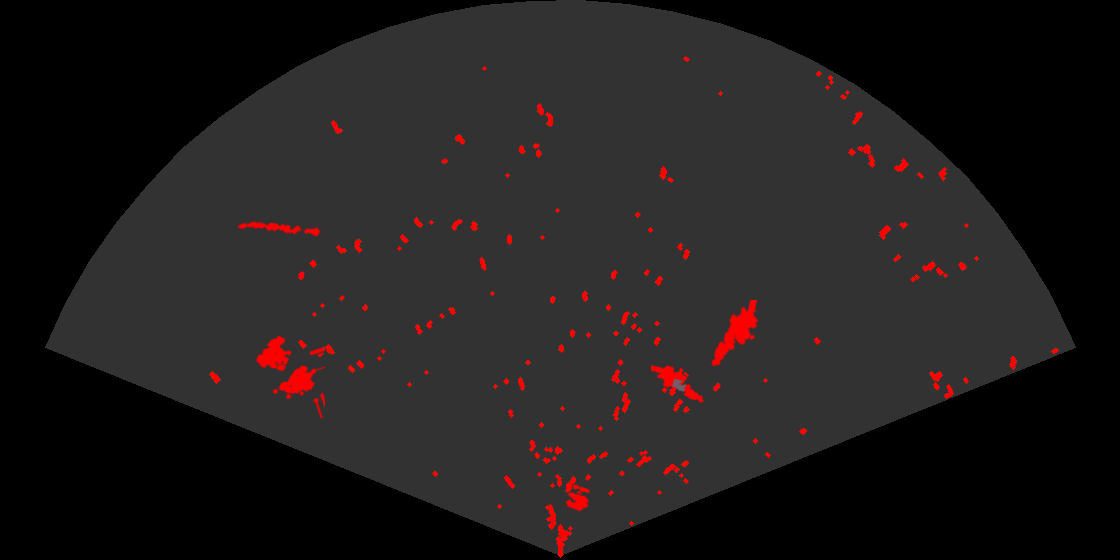ball: (564, 483, 592, 513)
cage: (255, 334, 325, 418)
chain: (236, 220, 323, 238)
frogman: (710, 300, 760, 368), (651, 363, 706, 404)
